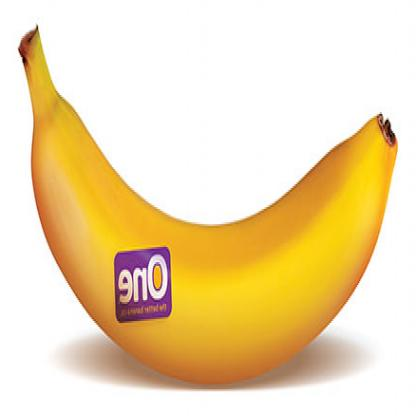banana: (17, 106, 401, 380)
